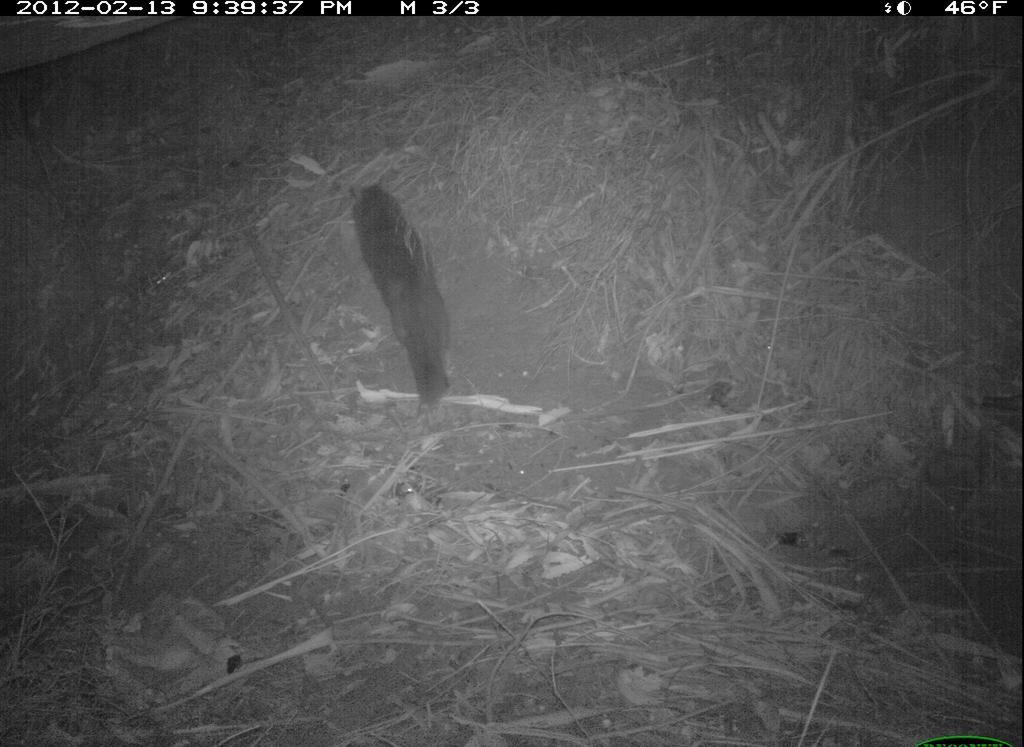cat: (323, 167, 475, 417)
